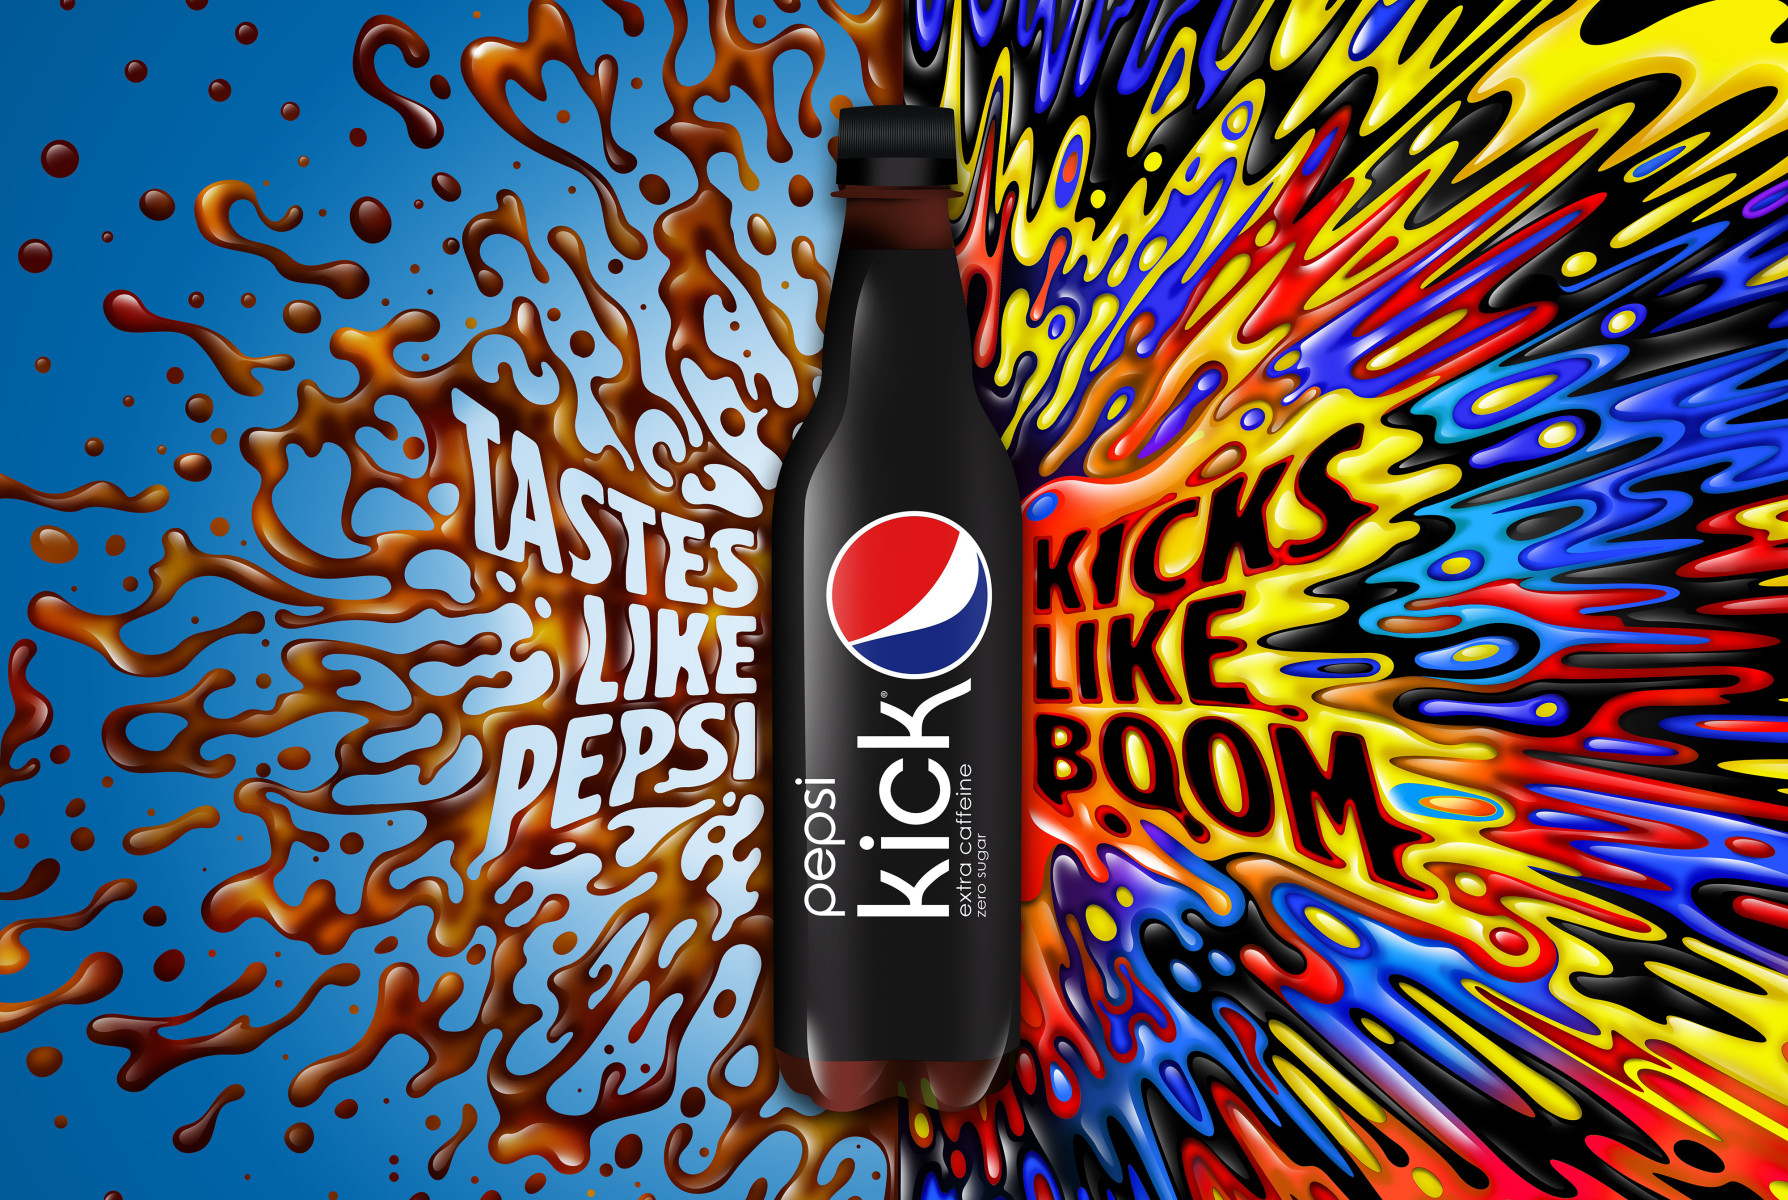pepsi: (821, 504, 991, 683)
